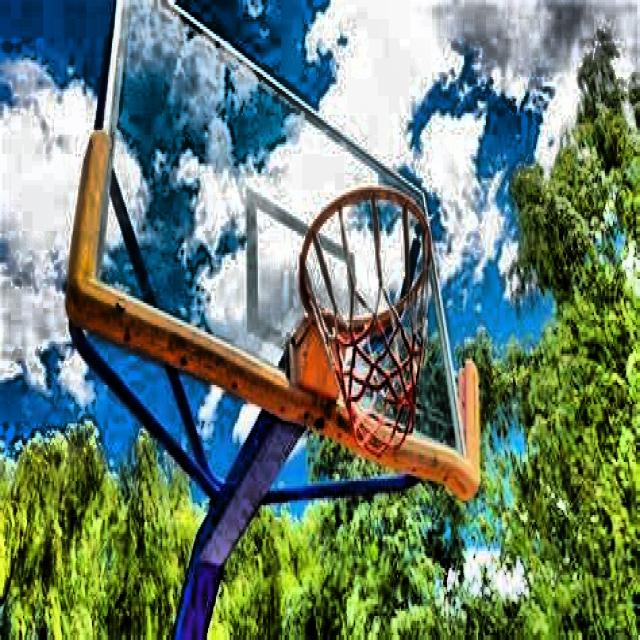rim: (300, 185, 433, 445)
